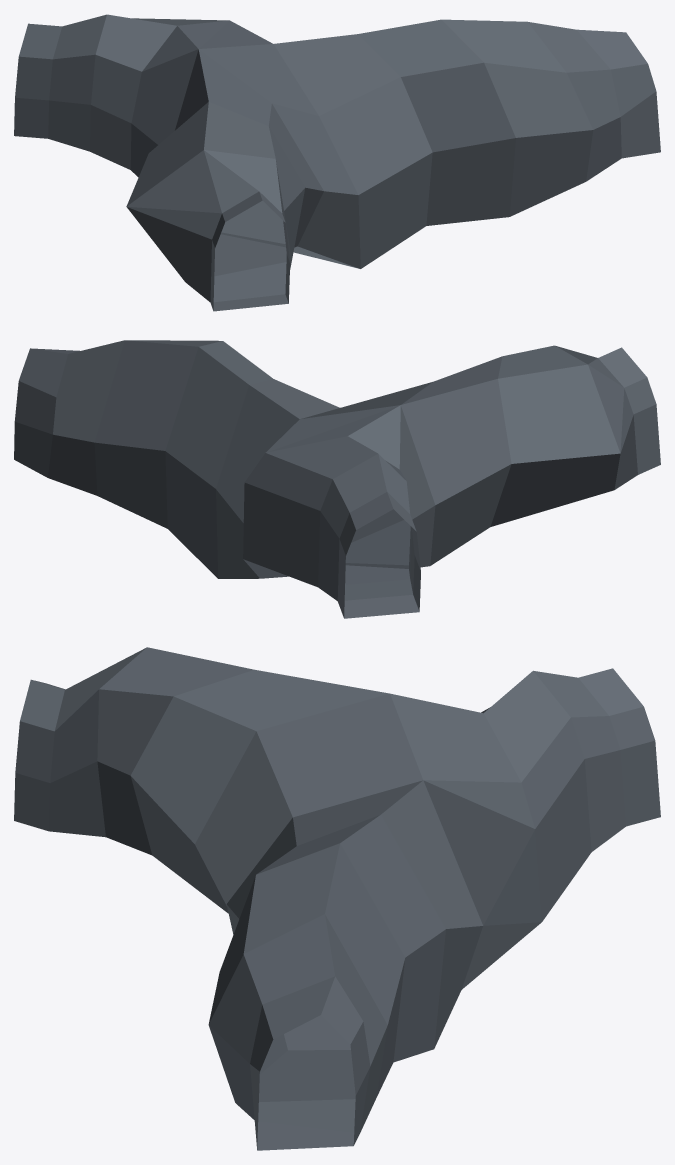
File: Tunnel-Y07.fbx
3 views of the same model, one above another, from view 1: azimuth 30°, elevation 25°; view 2: azimuth 150°, elevation 25°; view 3: azimuth 270°, elevation 25° (orthographic). The views are drawn at different scales.
Visible parts, largest first — view 1: Tunnel-Y07; view 2: Tunnel-Y07; view 3: Tunnel-Y07.
Boxes of the visible parts, <box> form: Tunnel-Y07: <box>14,14,660,311</box>; Tunnel-Y07: <box>14,340,660,618</box>; Tunnel-Y07: <box>14,647,660,1150</box>.
Size of the model in its own units: 1128 by 1405 by 501.
